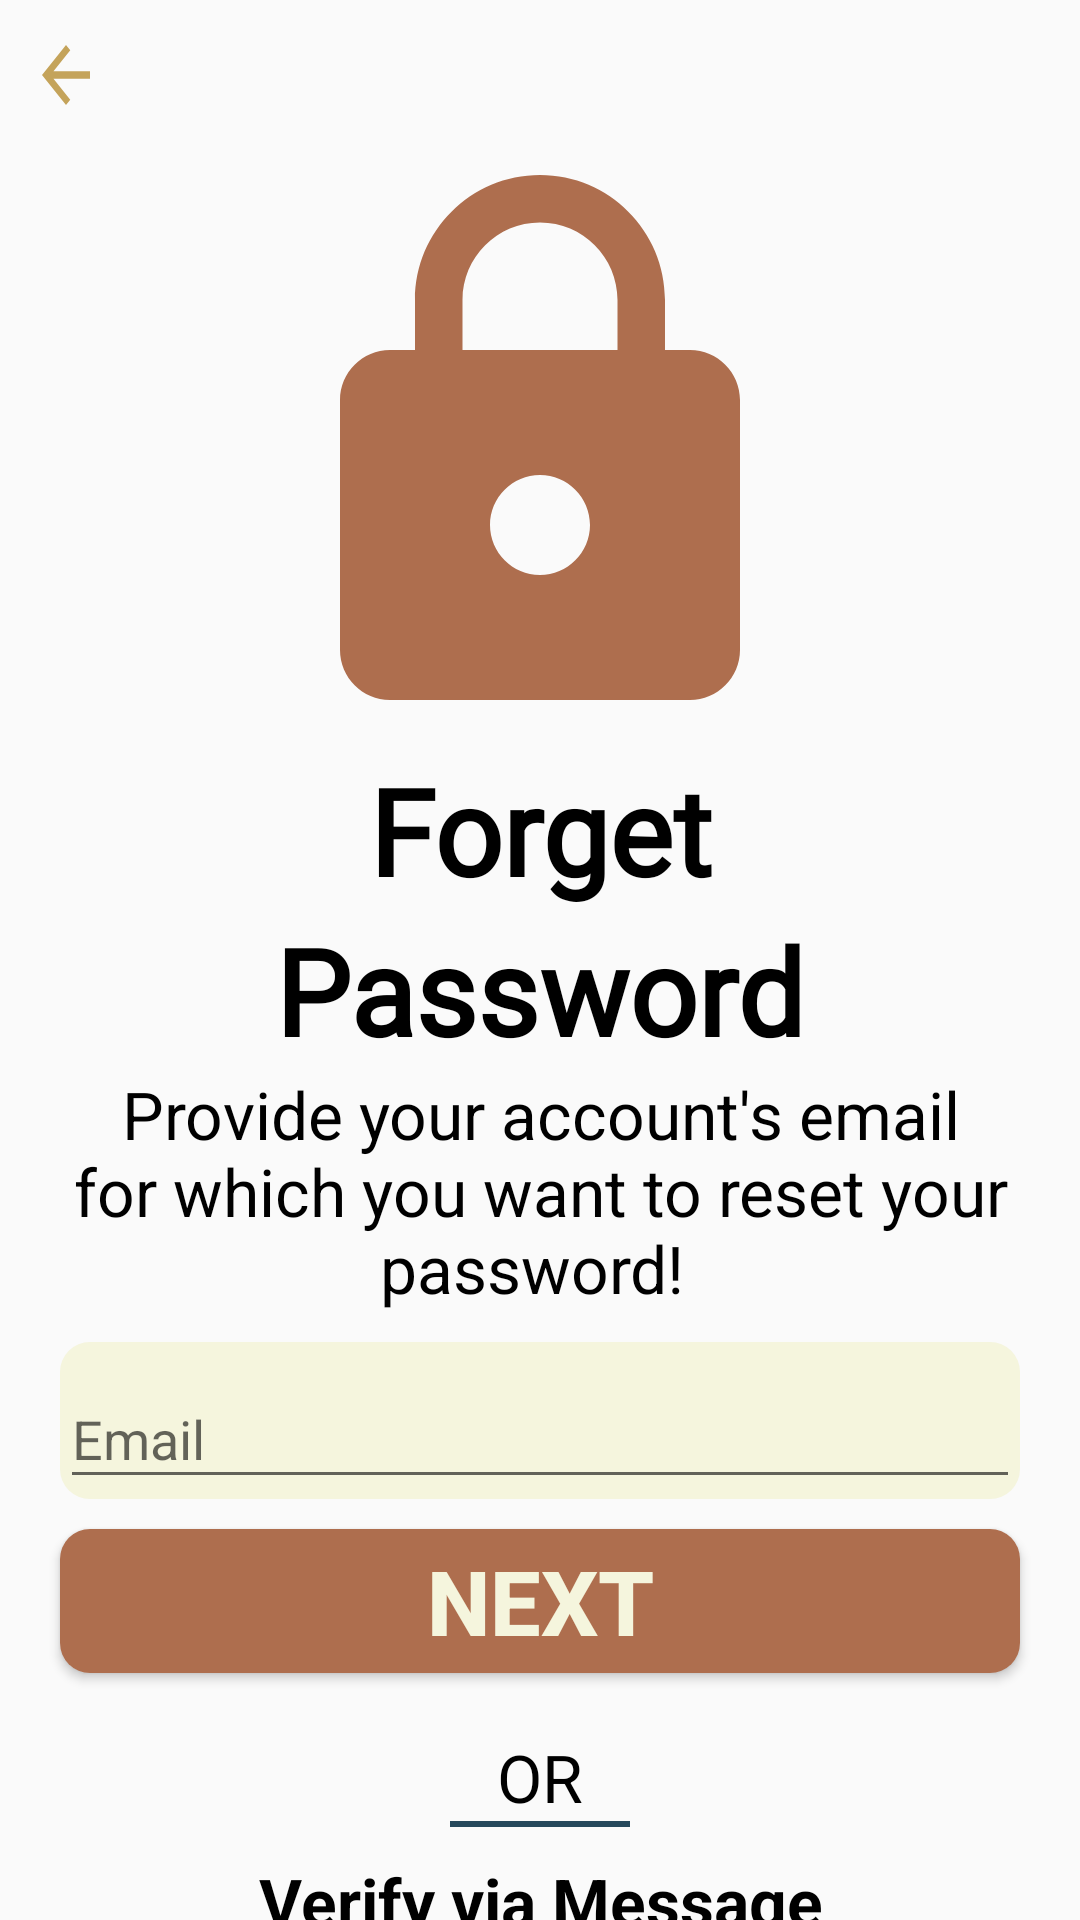

Where to tap for icons on this 1080×1920 app screen, as (x=x, y=y):
backtwin: (x=66, y=75)
